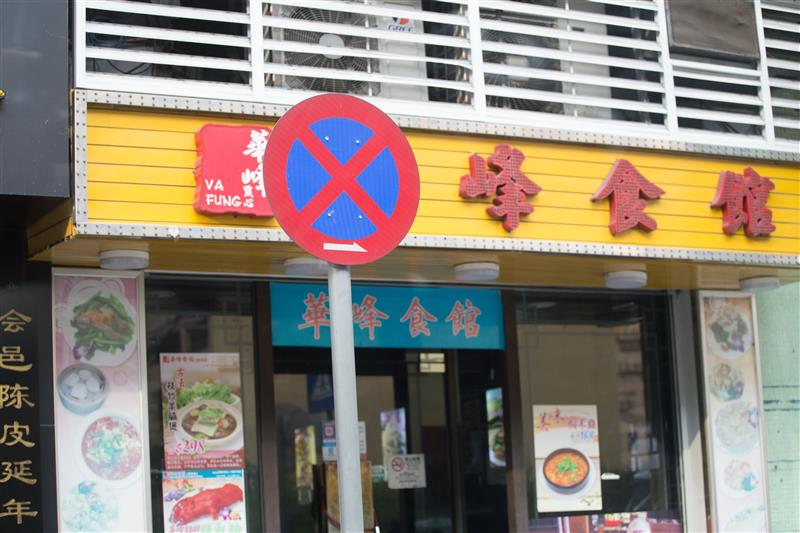noStopping: (263, 94, 420, 265)
